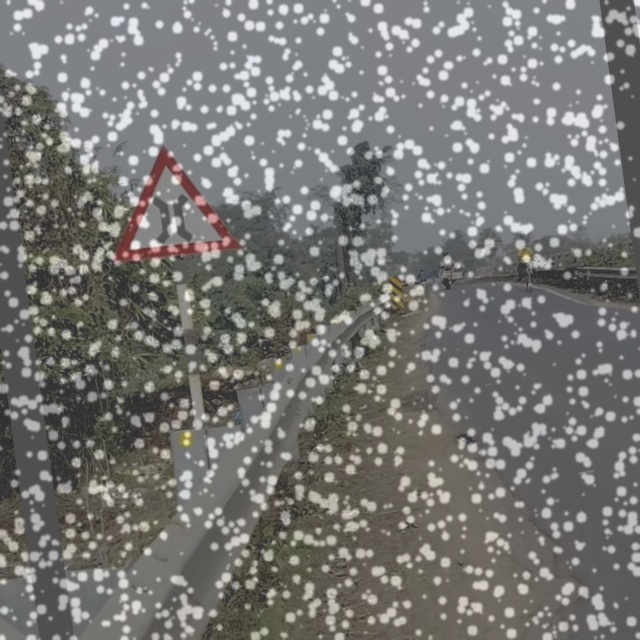Narrow_Bridge: (93, 135, 249, 272)
